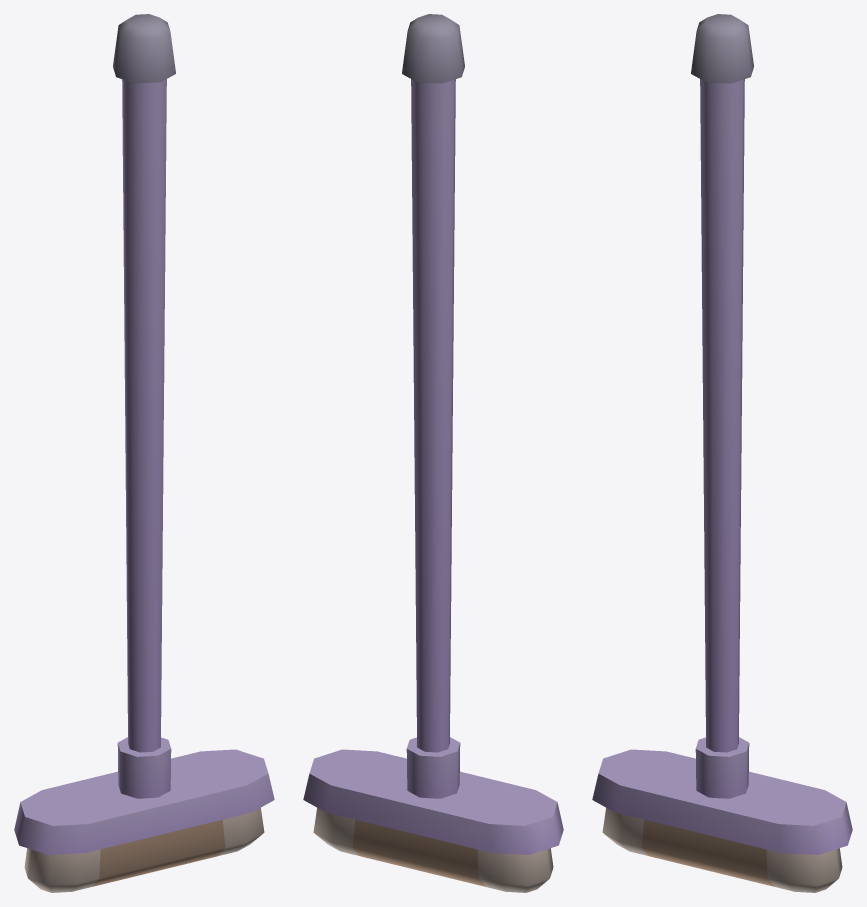
Rendered from broom-modern (%secret).glb.
3 views of the same model, side by side, from view 1: azimuth 30°, elevation 25°; view 2: azimuth 150°, elevation 25°; view 3: azimuth 330°, elevation 25° (orthographic).
Visible parts, largest first — view 1: broom-modern (%secret); view 2: broom-modern (%secret); view 3: broom-modern (%secret).
Part boxes in pixels (<box>): broom-modern (%secret): <box>14,14,274,892</box>; broom-modern (%secret): <box>303,14,563,892</box>; broom-modern (%secret): <box>592,14,852,892</box>.
Bounding box in the file's own units: 0.3737 × 1.2 × 0.1257.
